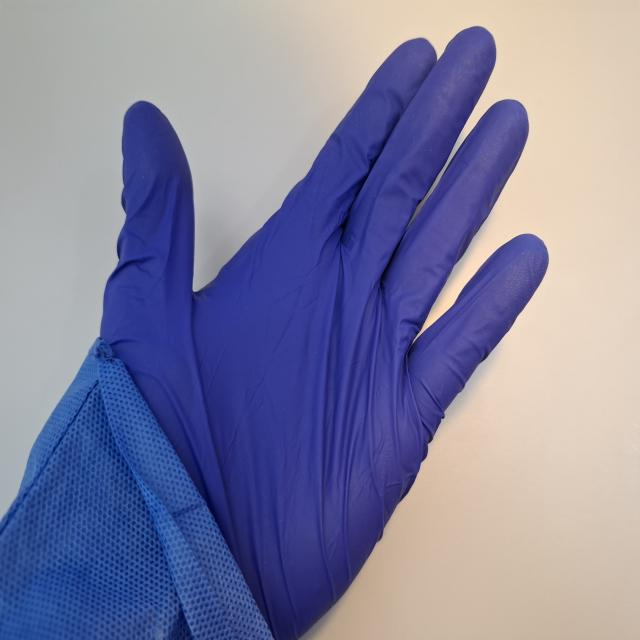glove_on: (93, 22, 552, 640)
